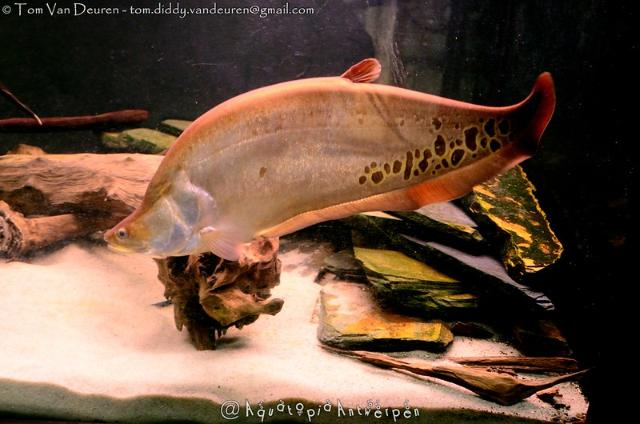Mulut: (96, 222, 150, 264)
Sirip Dada: (194, 222, 258, 266)
Sirip Punggung: (332, 52, 392, 88)
